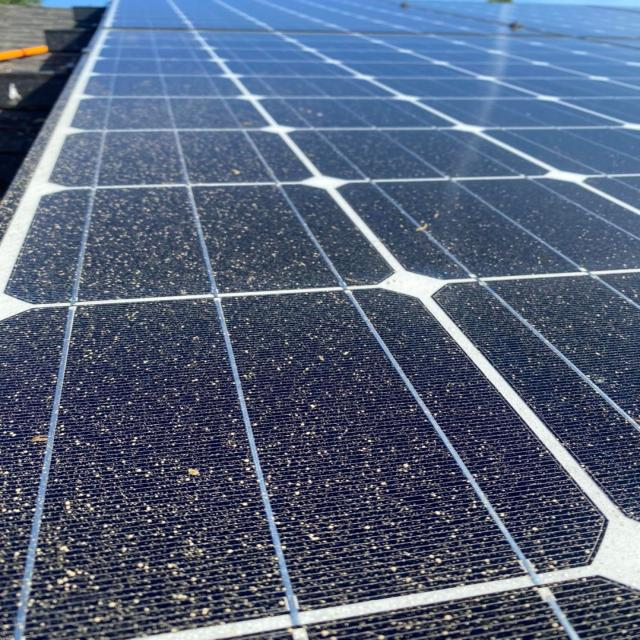dust-solar-panel: (0, 27, 640, 640)
